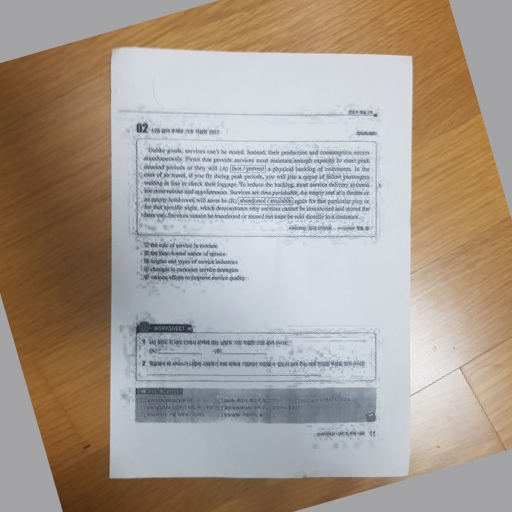Paper_2: (99, 42, 417, 488)
